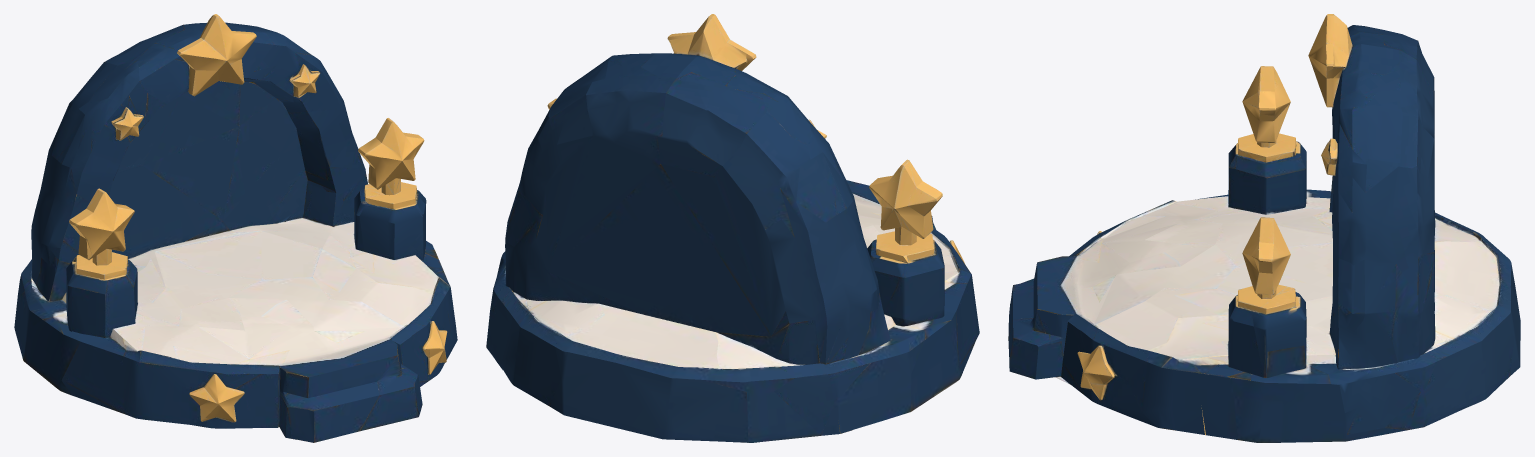
File: festivalStage.glb
3 renders of one model, left to right at view 1: azimuth 30°, elevation 25°; view 2: azimuth 150°, elevation 25°; view 3: azimuth 270°, elevation 25°, orthographic. The views are drawn at different scales.
Visible parts, largest first — view 1: Mesh_0; view 2: Mesh_0; view 3: Mesh_0.
Part boxes in pixels (x1=…): Mesh_0: x1=14, y1=14, x2=457, y2=442; Mesh_0: x1=486, y1=14, x2=979, y2=442; Mesh_0: x1=1008, y1=14, x2=1520, y2=442.
Bounding box in the file's own units: 1.84 × 1.42 × 2.
Materials: 1 (1 with a texture image).
